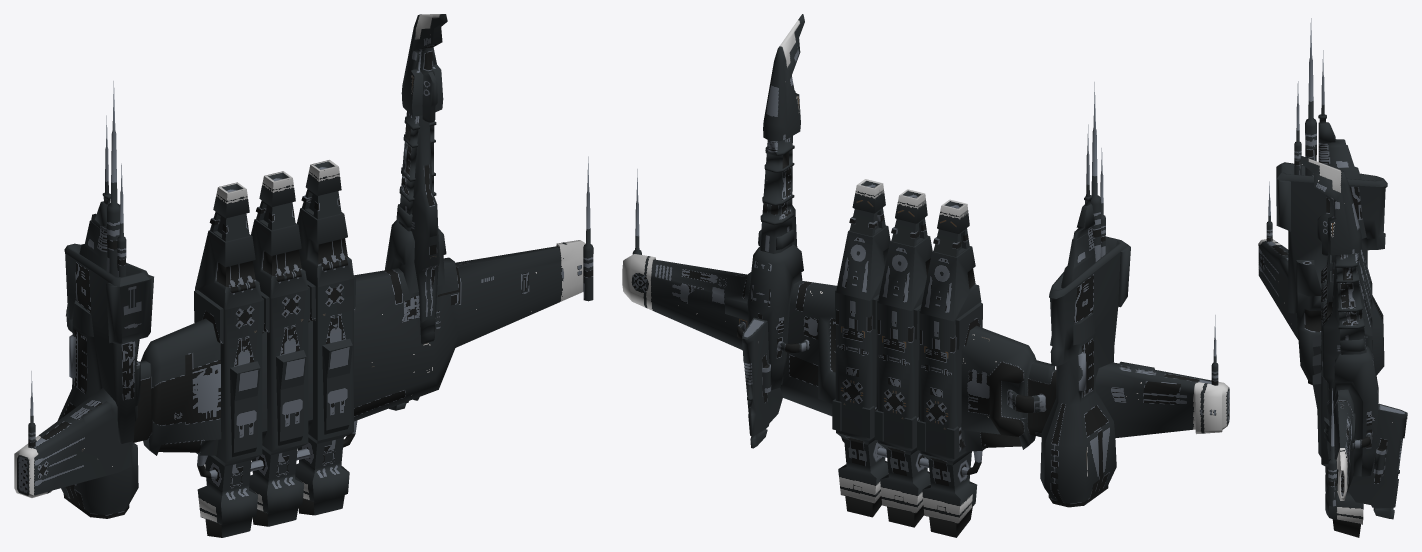
File: kestrel.glb
The picture shows the model from 3 angles, left to right: view 1: azimuth 30°, elevation 25°; view 2: azimuth 150°, elevation 25°; view 3: azimuth 270°, elevation 25°; orthographic projection. The views are drawn at different scales.
Parts seen in each view (by area): view 1: Kestrel; view 2: Kestrel; view 3: Kestrel.
Boxes of the visible parts, x1,y1,x2,y2 form: Kestrel: (14, 14, 593, 537); Kestrel: (622, 14, 1229, 537); Kestrel: (1258, 18, 1407, 537).
Bounding box in the file's own units: 99.72 × 78.55 × 24.95.
1 material, 1 textured.
